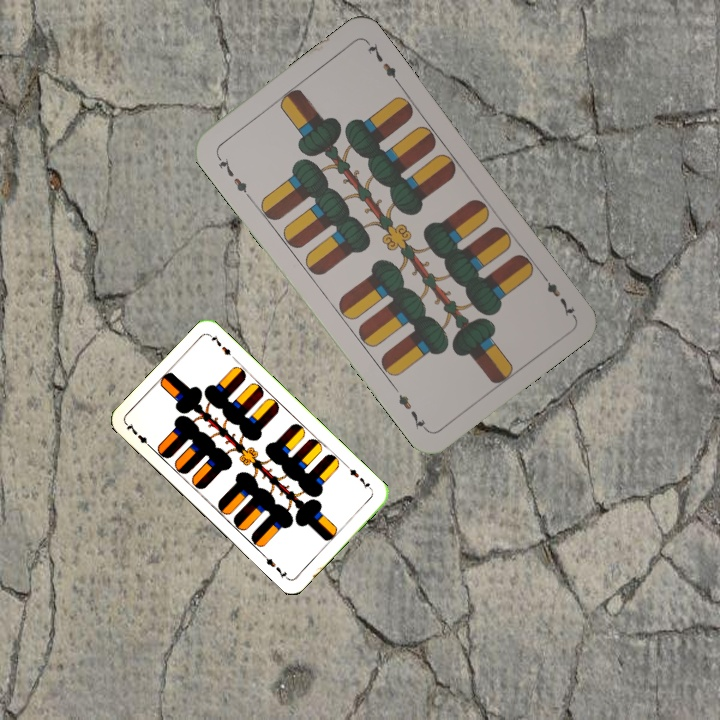E7: (537, 269, 578, 320), (212, 151, 253, 201), (122, 419, 155, 451), (342, 462, 375, 493)
